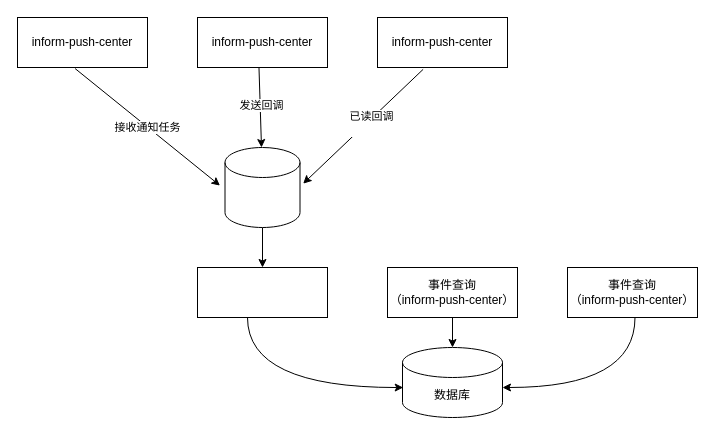
Some shapes in this 715 by 435 pixel diagram are drawn without their labels. The shapes that lost their labels are listed below. From the top down, each one's box as (x1, y1, x2, y2) in pixels, then its label:
(224, 146, 300, 228): 消息队列
(196, 266, 328, 318): 事件处理器 （inform-push-center）
